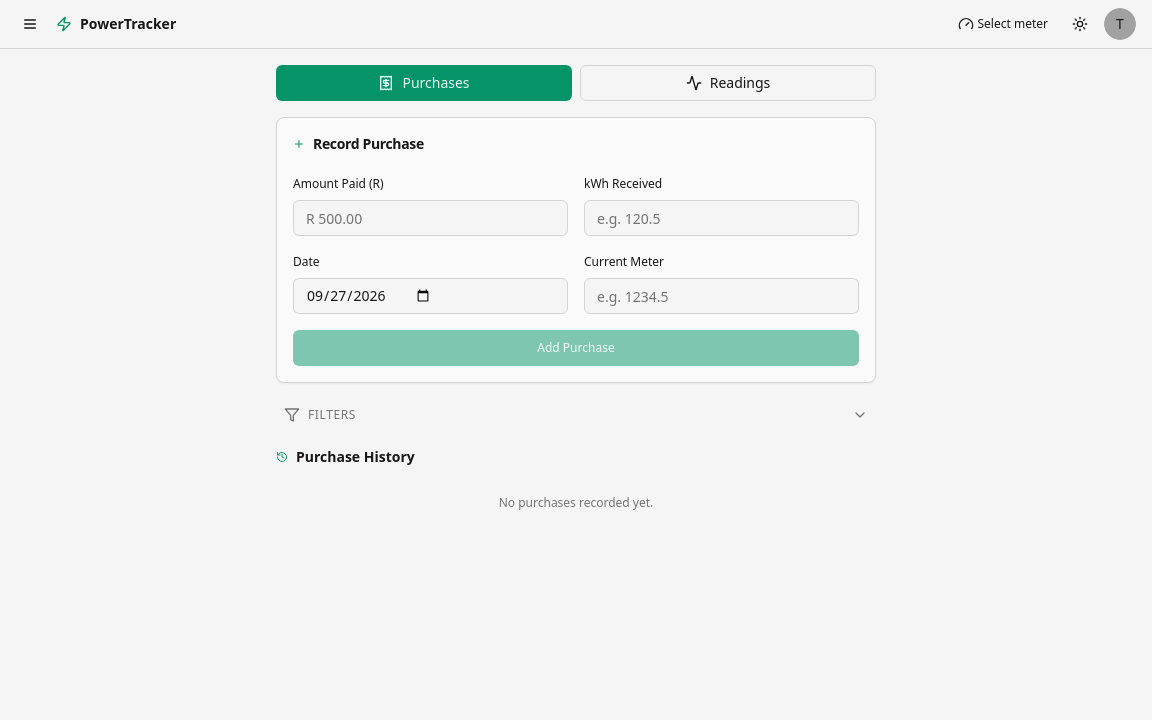
Scenario: HistoryPage › renders readings list and handles deletion
Click the button "Readings" at x=728, y=83, box [580,65,876,101]
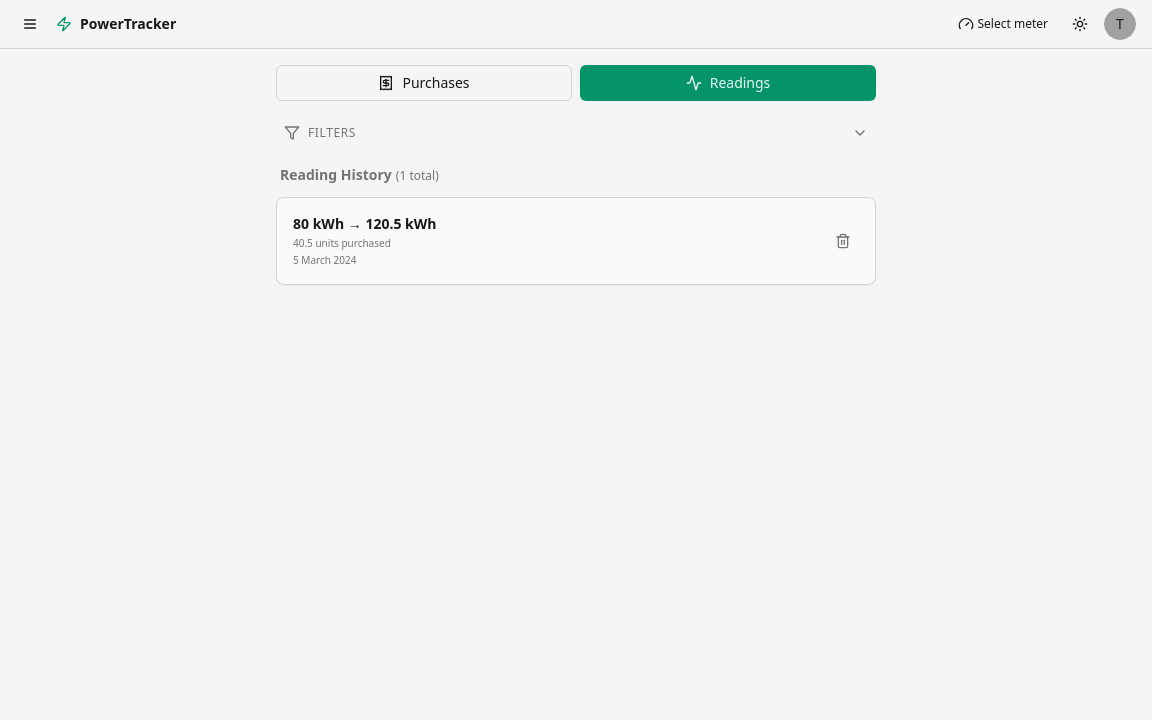
Expected: the button named "Delete reading" is shown, [827,225,859,257]
Expected: the text "80 kWh → 120.5 kWh" is shown, [293,214,436,234]
